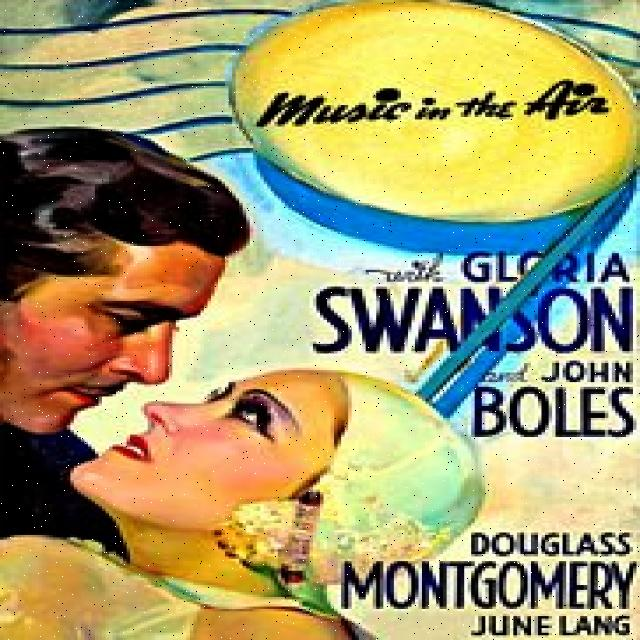movie-judul: (257, 73, 621, 131)
picture: (0, 124, 485, 640)
